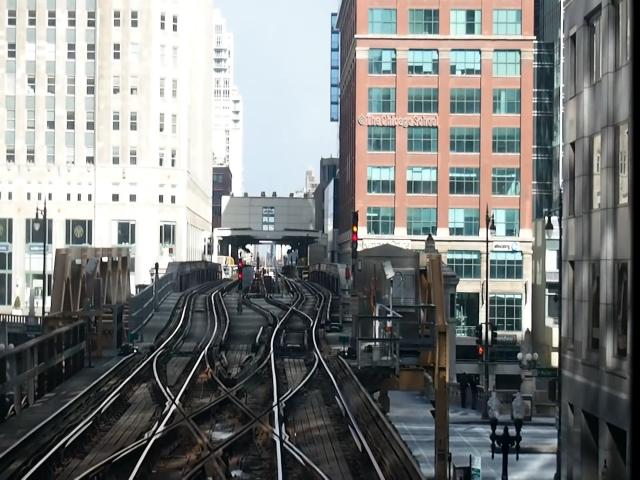signal light: (351, 210, 361, 265), (238, 259, 246, 293)
